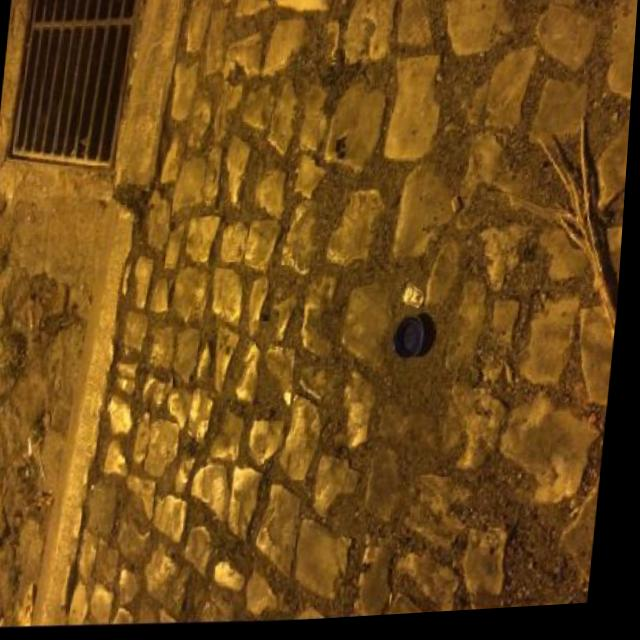plastic: (391, 313, 427, 361)
